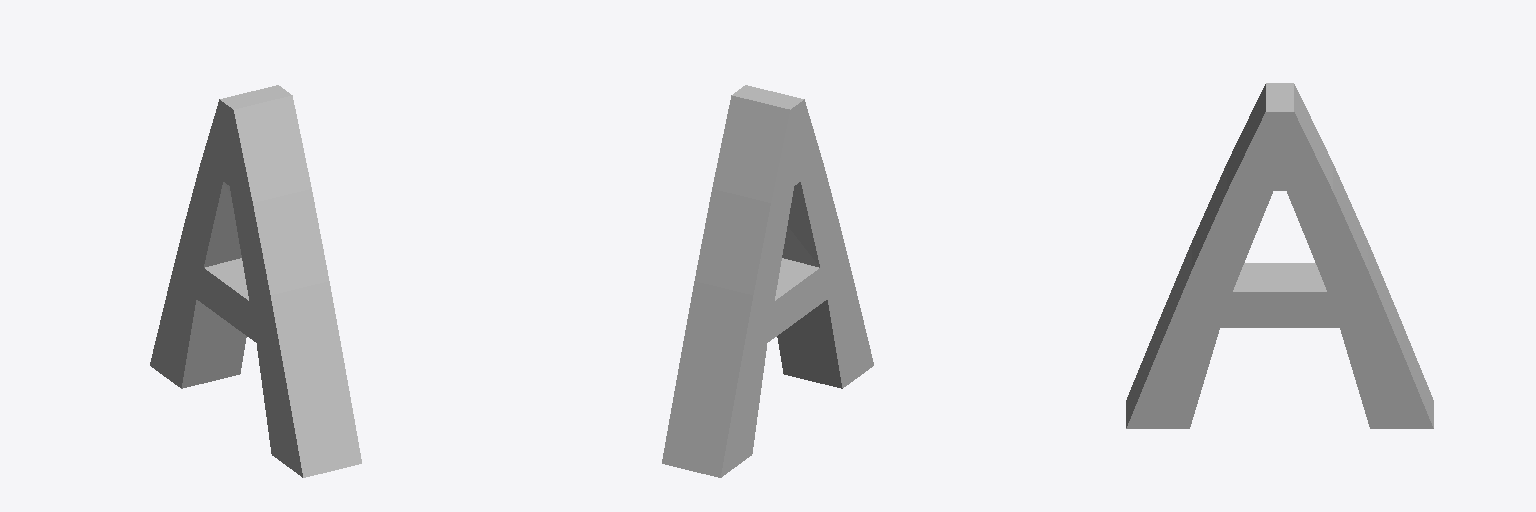
Rendered from letter8.obj.
3 renders of one model, left to right at view 1: azimuth 30°, elevation 25°; view 2: azimuth 150°, elevation 25°; view 3: azimuth 270°, elevation 25°, orthographic.
Visible parts, largest first — view 1: pCube1; view 2: pCube1; view 3: pCube1.
Part boxes in pixels (bbox=[...]): pCube1: bbox=[150, 85, 361, 477]; pCube1: bbox=[662, 85, 873, 477]; pCube1: bbox=[1126, 83, 1433, 428].
Size of the model in its own units: 0.3072 by 1.58 by 1.39.